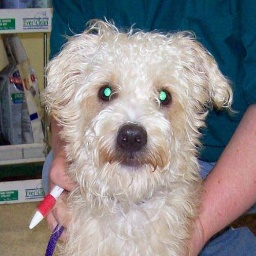dog: (44, 17, 226, 256)
